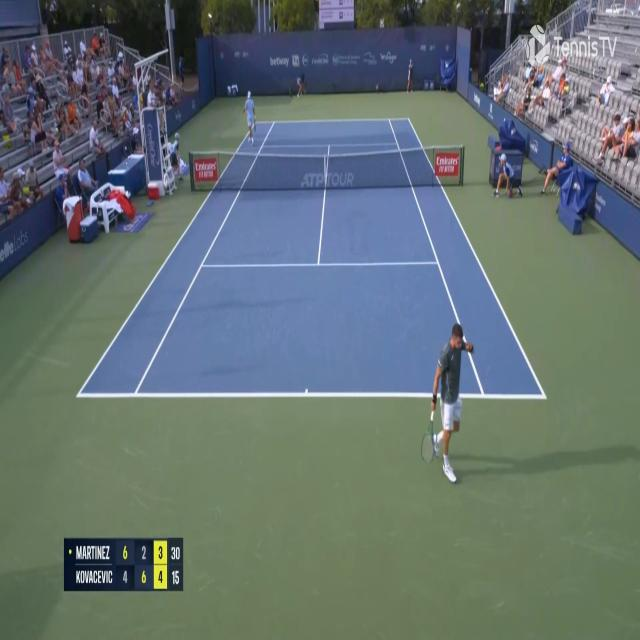tennis-player: (418, 318, 485, 489)
